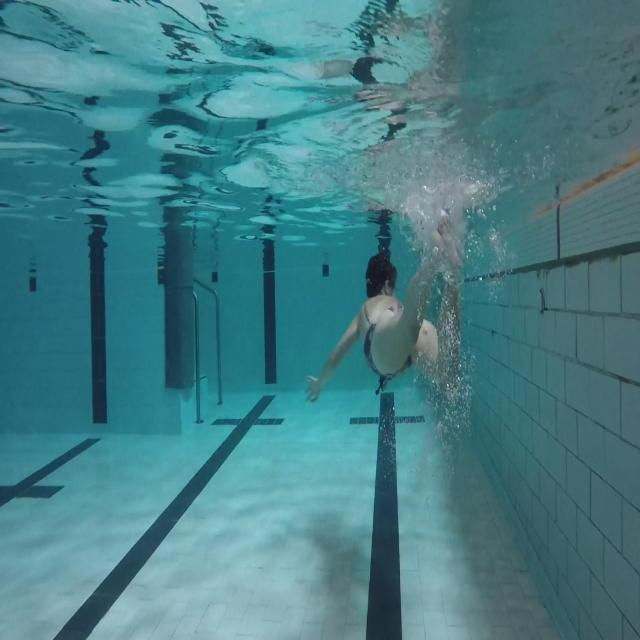human: (304, 208, 463, 404)
